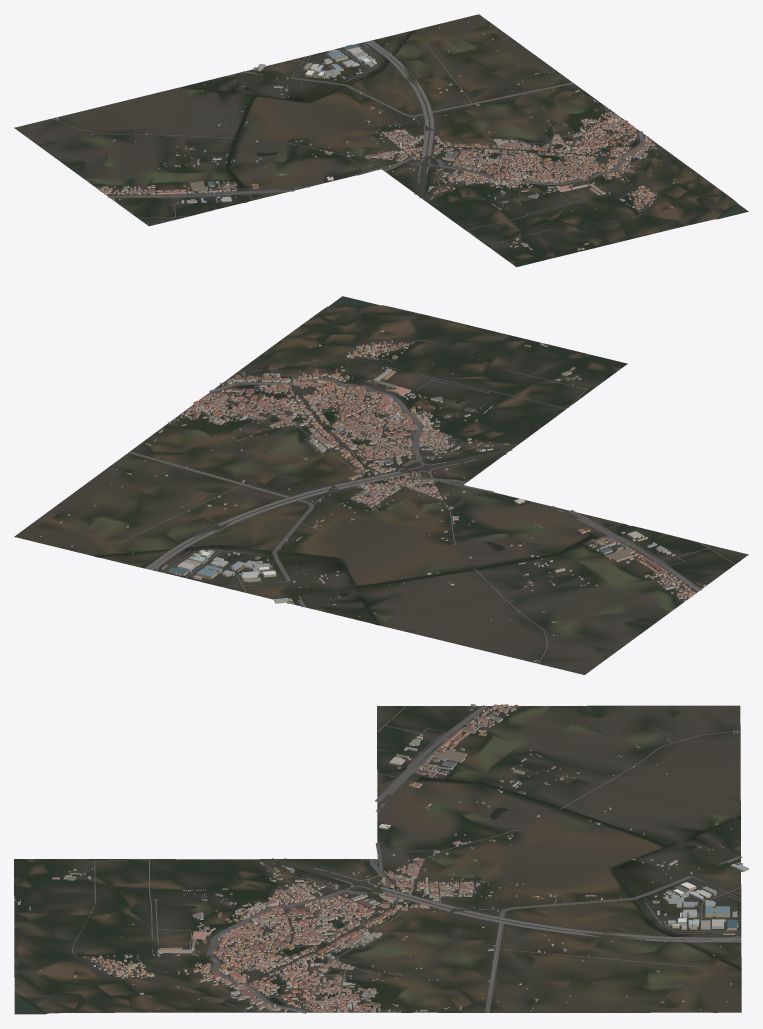
3 views of the same model, one above another, from view 1: azimuth 30°, elevation 25°; view 2: azimuth 150°, elevation 25°; view 3: azimuth 270°, elevation 25° (orthographic). The views are drawn at different scales.
Visible parts, largest first — view 1: ground, buildings, roads, water; view 2: ground, buildings, roads, water; view 3: ground, buildings, roads, water.
Boxes of the visible parts, x1,y1,x2,y2 form: ground: [14, 14, 748, 267]; buildings: [56, 21, 693, 251]; roads: [50, 39, 662, 244]; water: [182, 30, 748, 218]; ground: [14, 298, 748, 674]; buildings: [37, 318, 706, 661]; roads: [56, 340, 735, 664]; water: [94, 296, 603, 624]; ground: [14, 705, 741, 1014]; buildings: [14, 704, 748, 1012]; roads: [72, 705, 742, 1013]; water: [15, 775, 741, 1013].
Size of the model in its own units: 2818 by 34.43 by 2834.
